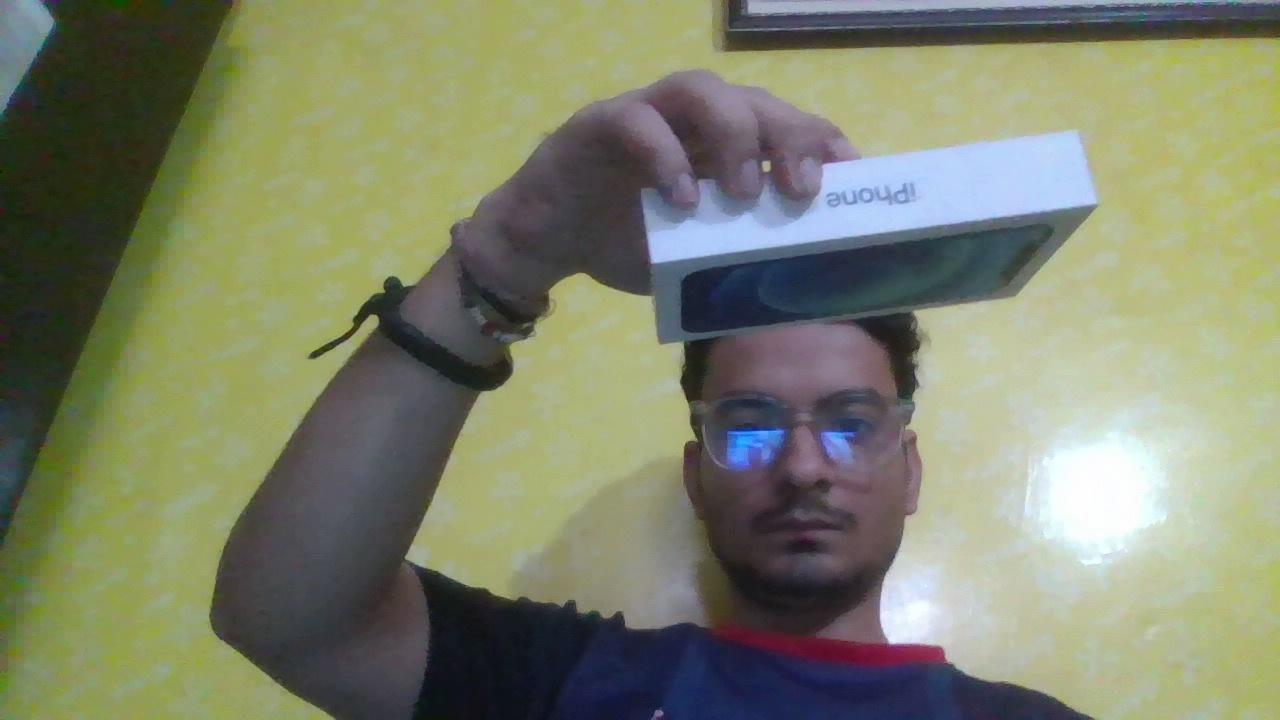Phone: (600, 120, 1115, 341)
